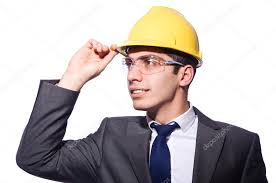Person_wearing_helmet: (103, 3, 201, 74)
